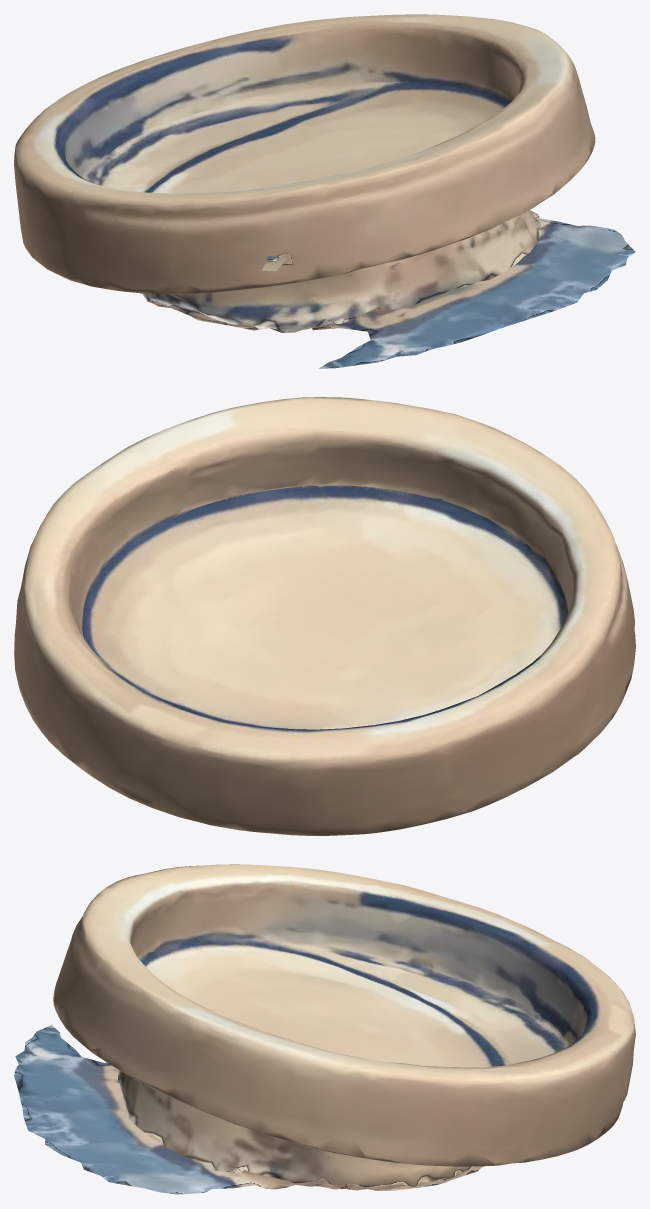
File: plate.glb
3 renders of one model, top to bottom at view 1: azimuth 30°, elevation 25°; view 2: azimuth 150°, elevation 25°; view 3: azimuth 270°, elevation 25°, orthographic. The views are drawn at different scales.
Parts seen in each view (by area): view 1: world; view 2: world; view 3: world.
Part boxes in pixels (x1,y1,x2,y2): world: (14,14,635,368); world: (14,397,635,835); world: (14,864,635,1194).
Bounding box in the file's own units: 0.8937 × 0.3592 × 0.9537.
1 material, 1 textured.
